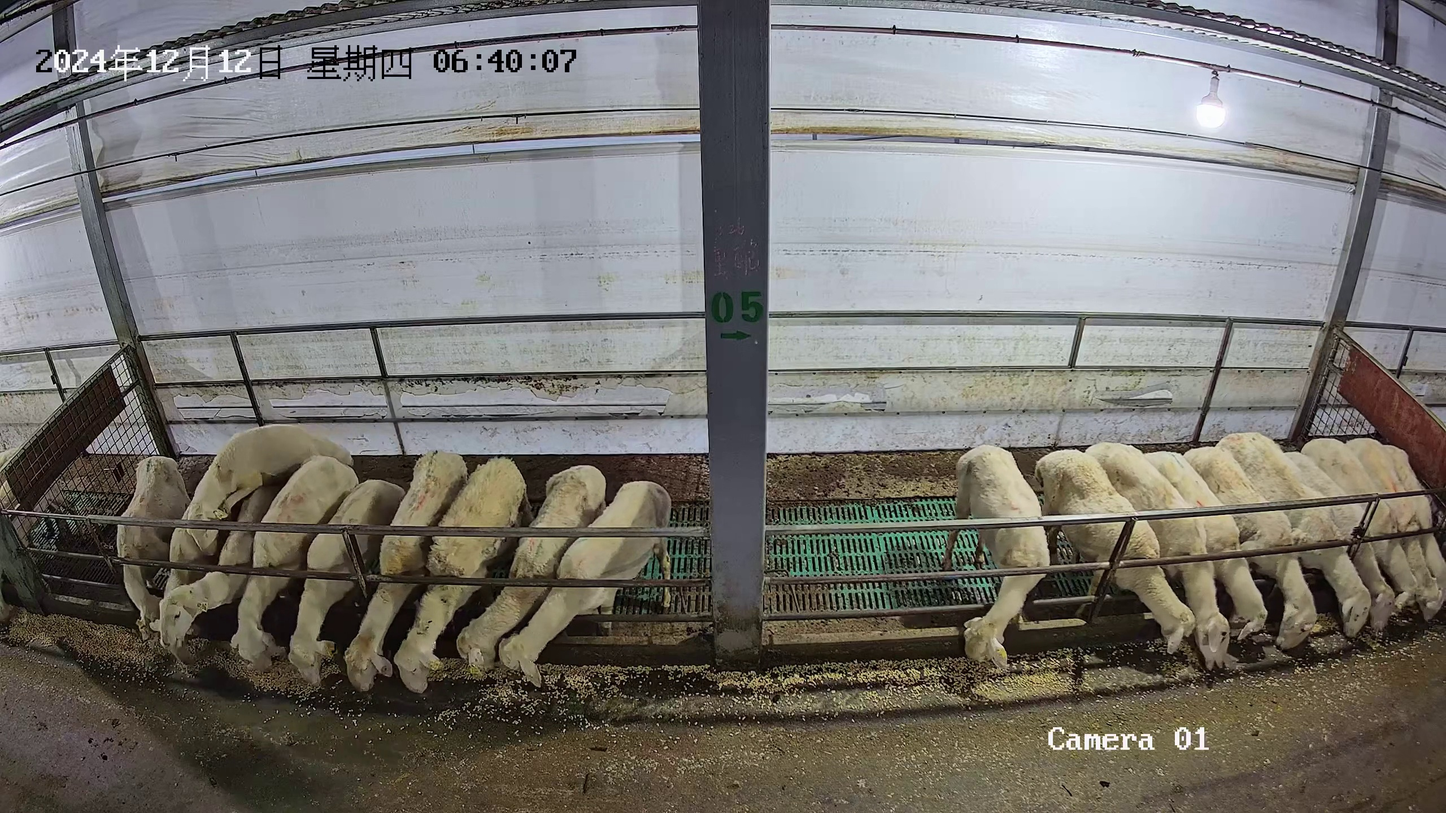Nmounting: (178, 423, 357, 661)
